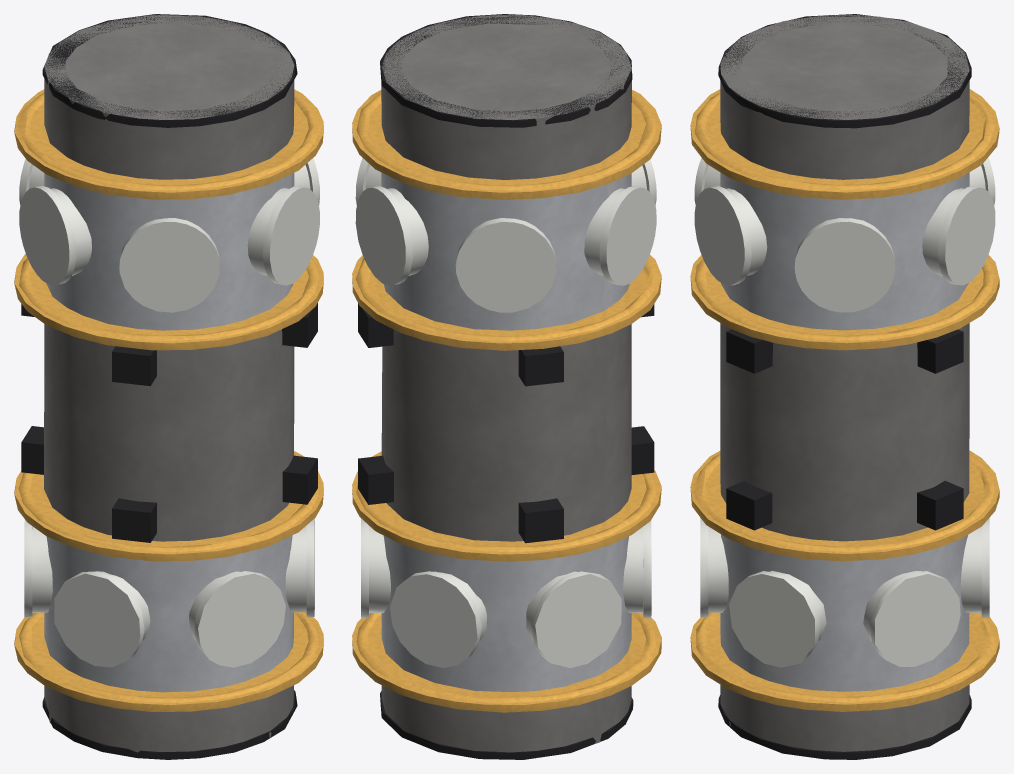
Rendered from station12_counter_ring_hub.glb.
3 views of the same model, side by side, from view 1: azimuth 30°, elevation 25°; view 2: azimuth 150°, elevation 25°; view 3: azimuth 270°, elevation 25° (orthographic).
Visible parts, largest first — view 1: stator_centre, stator_ends, bearings_sliprings, spoke_ports_a, spoke_ports_b, rotor_a, rotor_b, end_rings, spin_motors; view 2: stator_ends, stator_centre, bearings_sliprings, spoke_ports_a, spoke_ports_b, rotor_a, rotor_b, end_rings, spin_motors; view 3: stator_ends, stator_centre, bearings_sliprings, spoke_ports_a, spoke_ports_b, rotor_a, rotor_b, end_rings, spin_motors.
Boxes of the visible parts, <box> form: stator_centre: <box>44,324,294,541</box>; stator_ends: <box>44,14,294,752</box>; bearings_sliprings: <box>14,89,323,711</box>; spoke_ports_a: <box>19,158,319,312</box>; spoke_ports_b: <box>24,518,314,667</box>; rotor_a: <box>44,173,294,330</box>; rotor_b: <box>44,535,293,692</box>; end_rings: <box>42,14,297,759</box>; spin_motors: <box>21,303,317,542</box>; stator_ends: <box>381,15,631,757</box>; stator_centre: <box>381,324,631,541</box>; bearings_sliprings: <box>352,90,661,712</box>; spoke_ports_a: <box>355,158,656,312</box>; spoke_ports_b: <box>361,518,651,667</box>; rotor_a: <box>381,172,631,330</box>; rotor_b: <box>381,536,631,691</box>; end_rings: <box>380,14,633,759</box>; spin_motors: <box>358,303,654,543</box>; stator_ends: <box>720,15,969,751</box>; stator_centre: <box>720,323,969,541</box>; bearings_sliprings: <box>690,89,999,711</box>; spoke_ports_a: <box>694,157,995,312</box>; spoke_ports_b: <box>700,518,989,667</box>; rotor_a: <box>720,172,969,330</box>; rotor_b: <box>720,534,969,691</box>; end_rings: <box>718,14,971,759</box>; spin_motors: <box>726,329,963,530</box>.
Size of the model in its own units: 4.65 by 10.6 by 4.65.
Materials: 5 (3 with a texture image).
